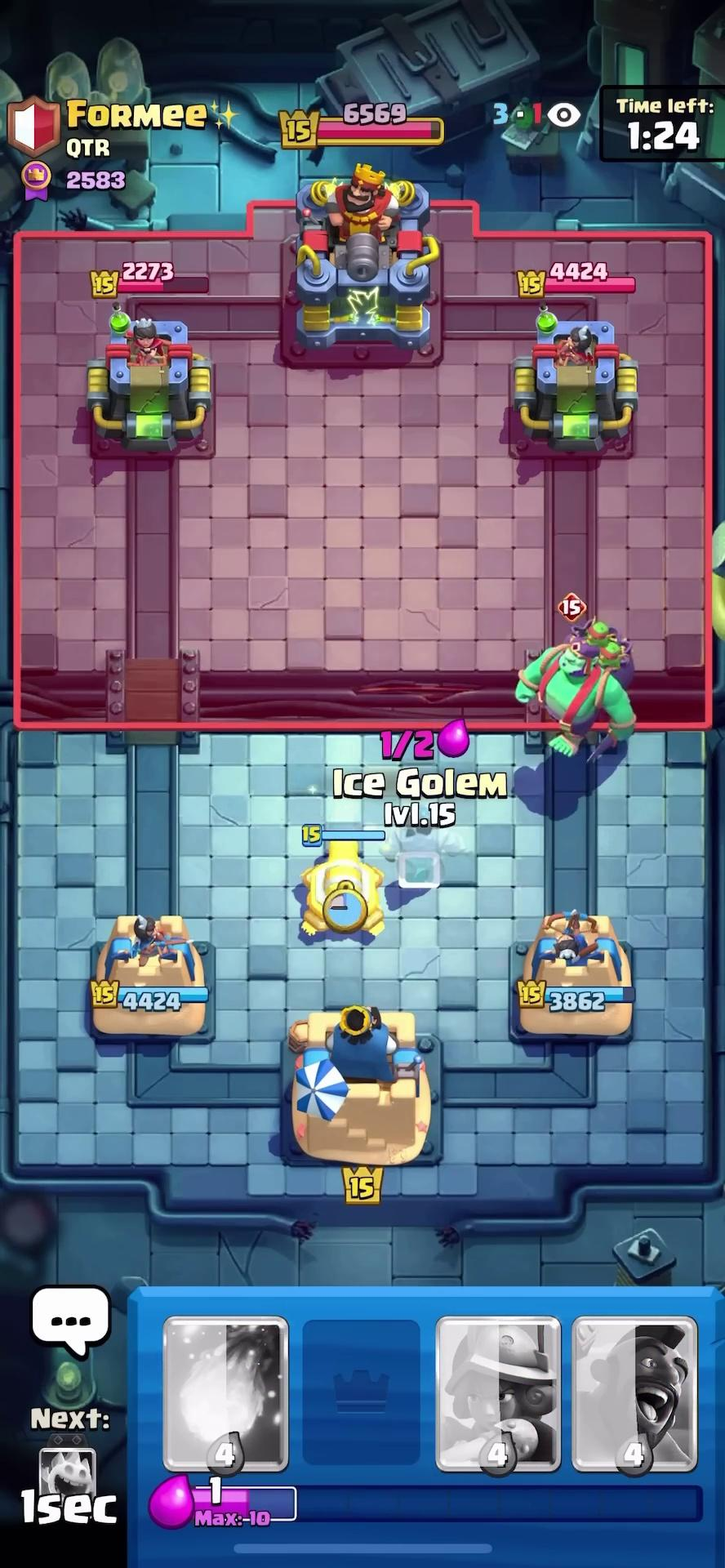cannon: (288, 823, 402, 943)
